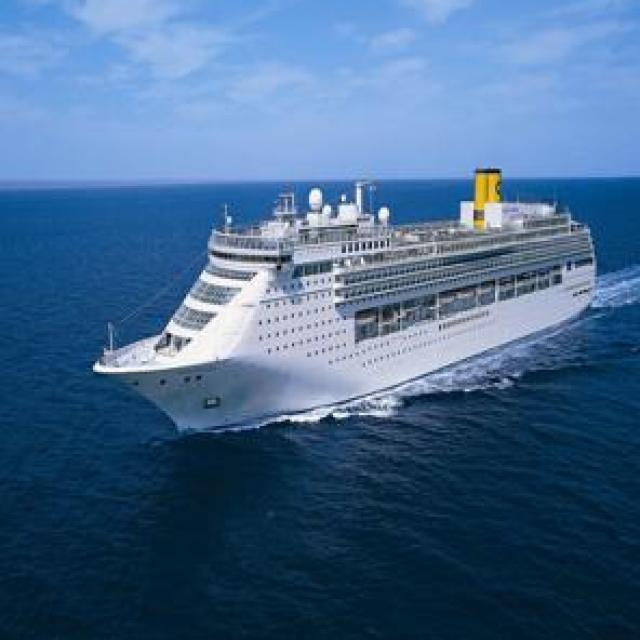passenger ship: (92, 149, 606, 454)
